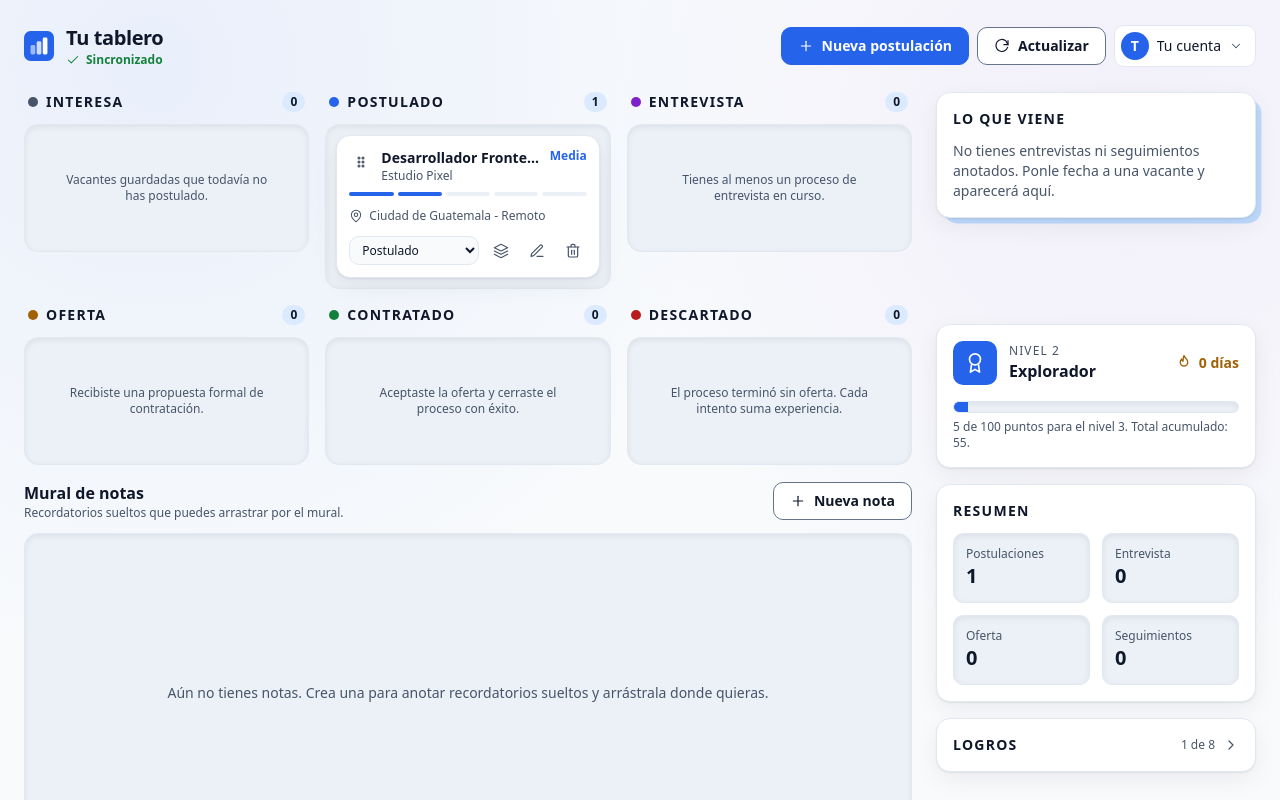
BoardWorkspace (integracion) › muestra el detalle de validación cuando el servidor rechaza los datos
The image size is (1280, 800).
Expected: the heading "Desarrollador Frontend" is shown, [381,148,542,168]
Click the button "Nueva postulación": (875, 46) [780,27,969,65]
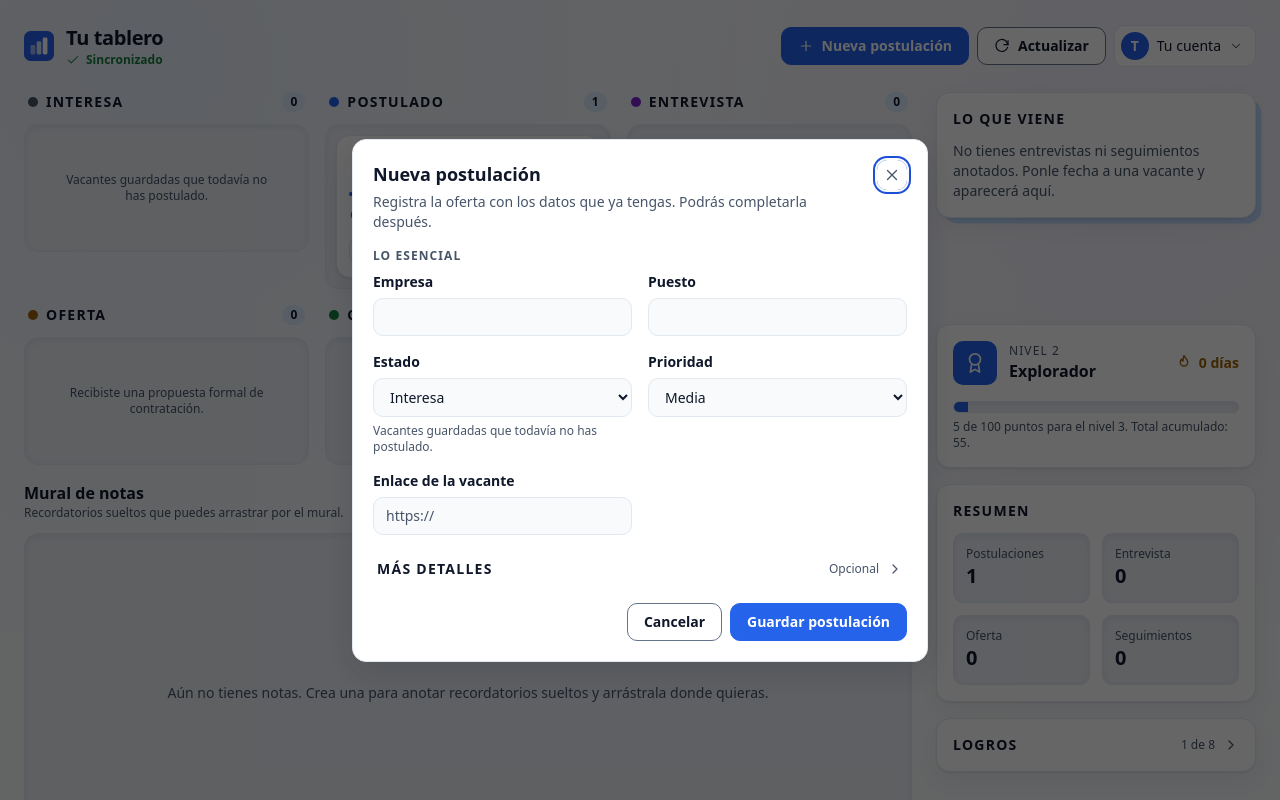
In the field labelled "Empresa": (502, 316) [373,298,632,336], type "Empresa"
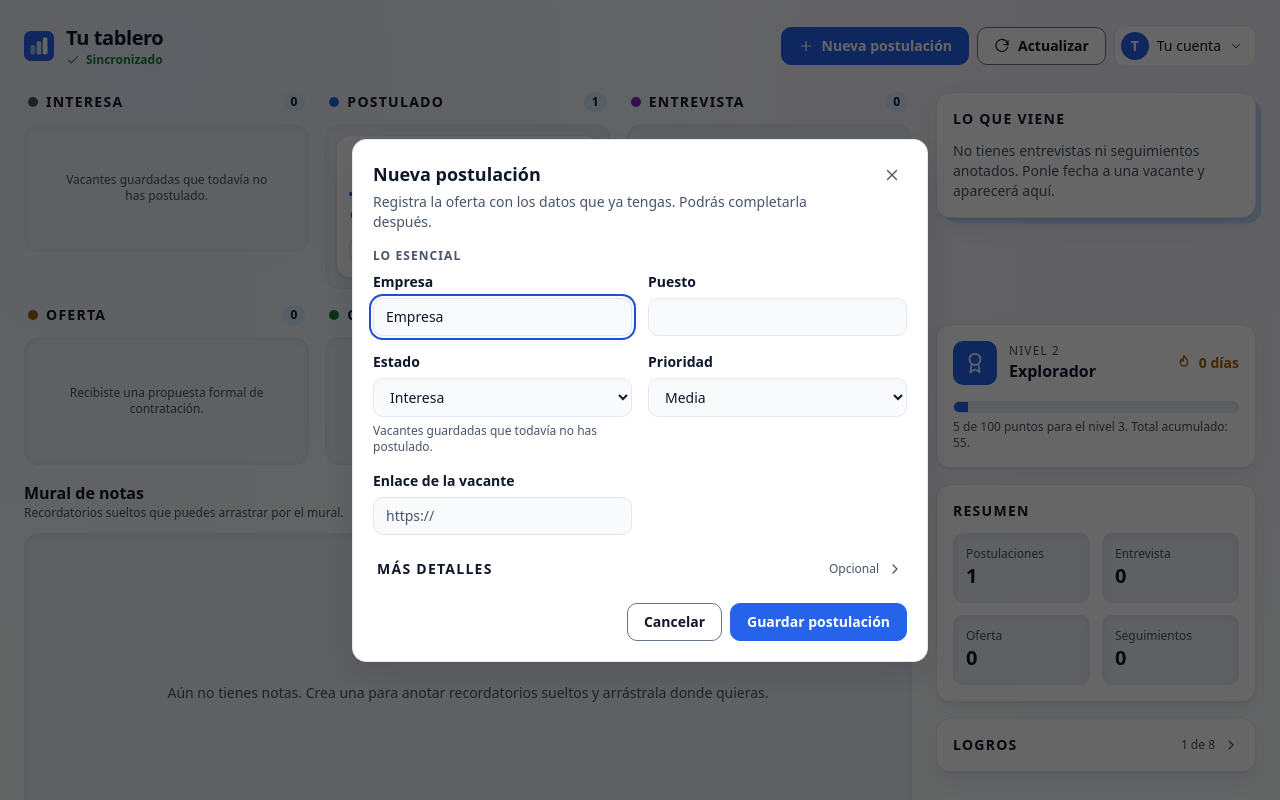
In the field labelled "Puesto": (778, 316) [648,298,907,336], type "Puesto"
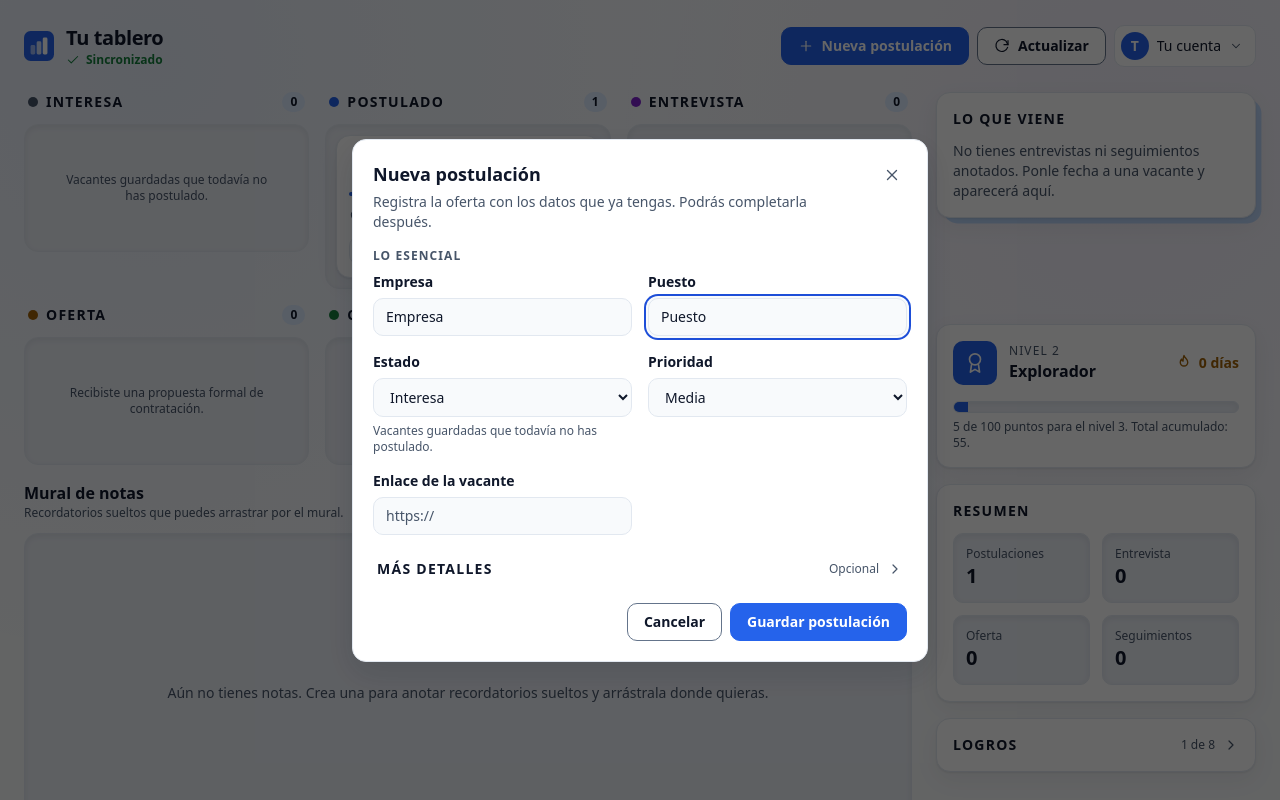
Click the button "Guardar postulación": (818, 622) [730,602,907,640]
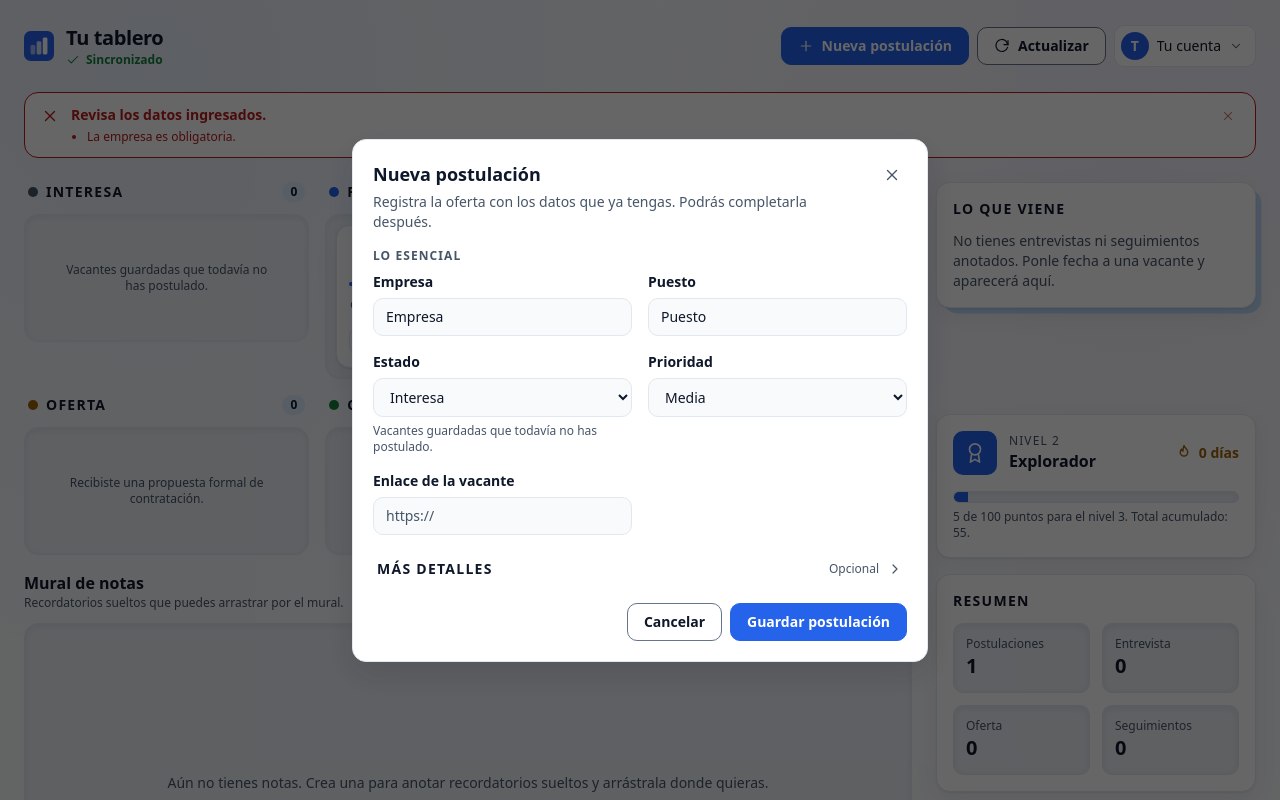
Expected: the list item "La empresa es obligatoria." is shown, [87,128,236,145]
